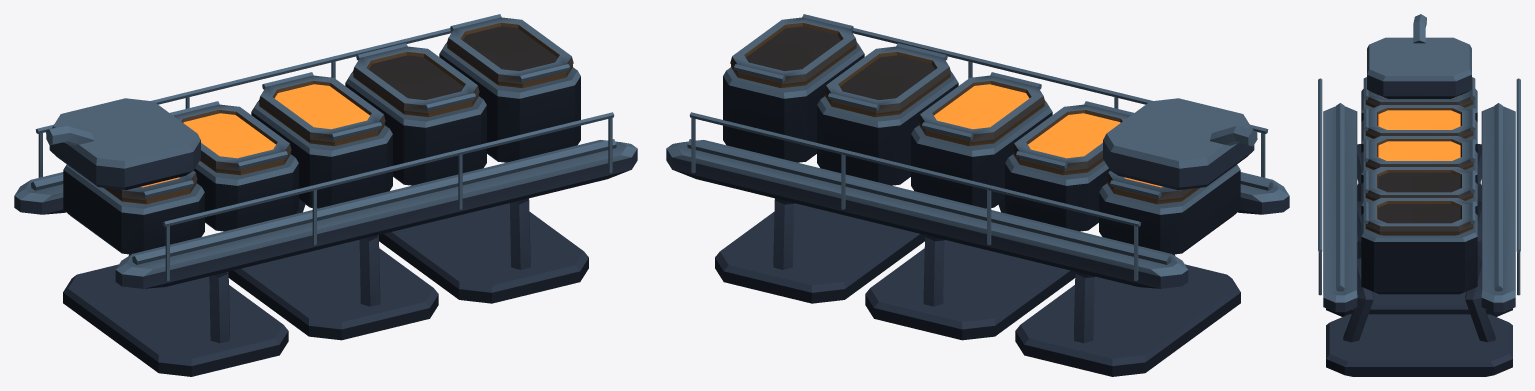
The model's file is forge-casting-line.glb.
3 renders of one model, left to right at view 1: azimuth 30°, elevation 25°; view 2: azimuth 150°, elevation 25°; view 3: azimuth 270°, elevation 25°, orthographic. The views are drawn at different scales.
Parts seen in each view (by area): view 1: forge-casting-line; view 2: forge-casting-line; view 3: forge-casting-line.
Boxes of the visible parts, bbox=[...] form: forge-casting-line: bbox=[14, 14, 637, 376]; forge-casting-line: bbox=[666, 14, 1289, 376]; forge-casting-line: bbox=[1318, 14, 1520, 376].
Size of the model in its own units: 11.02 by 4.5 by 4.64.
